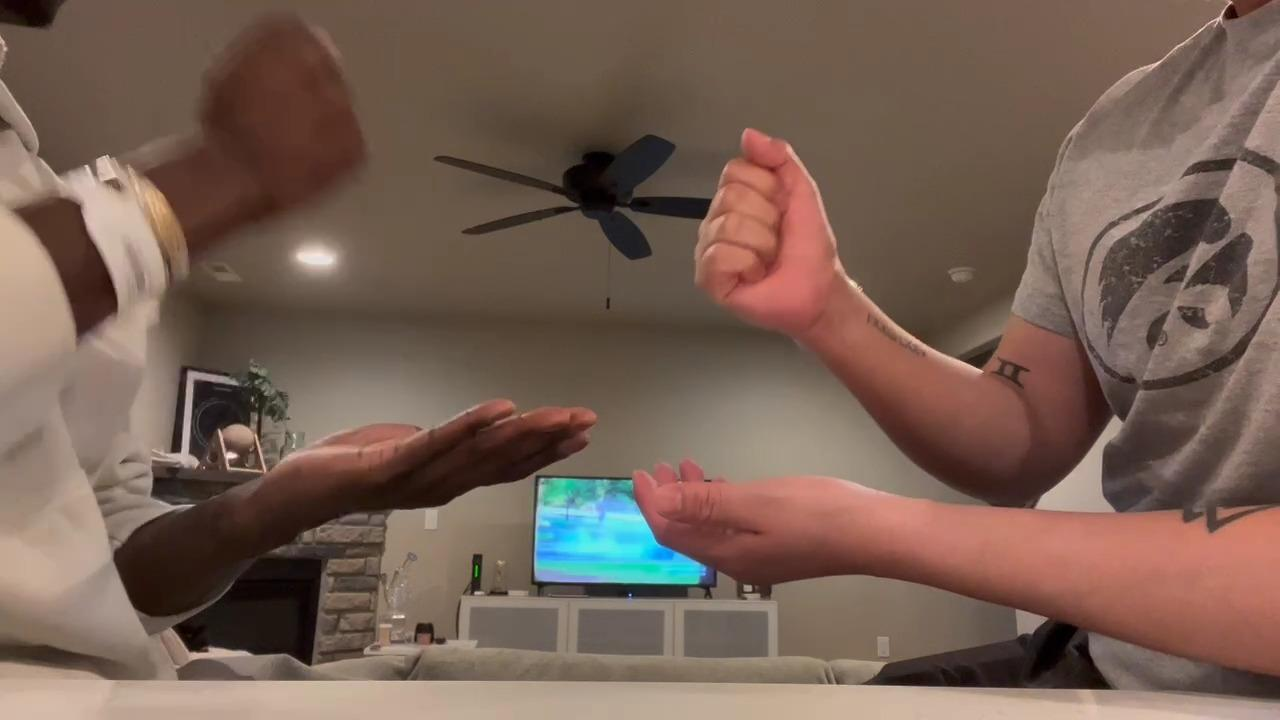Rock: (197, 10, 366, 212), (690, 123, 843, 339)
